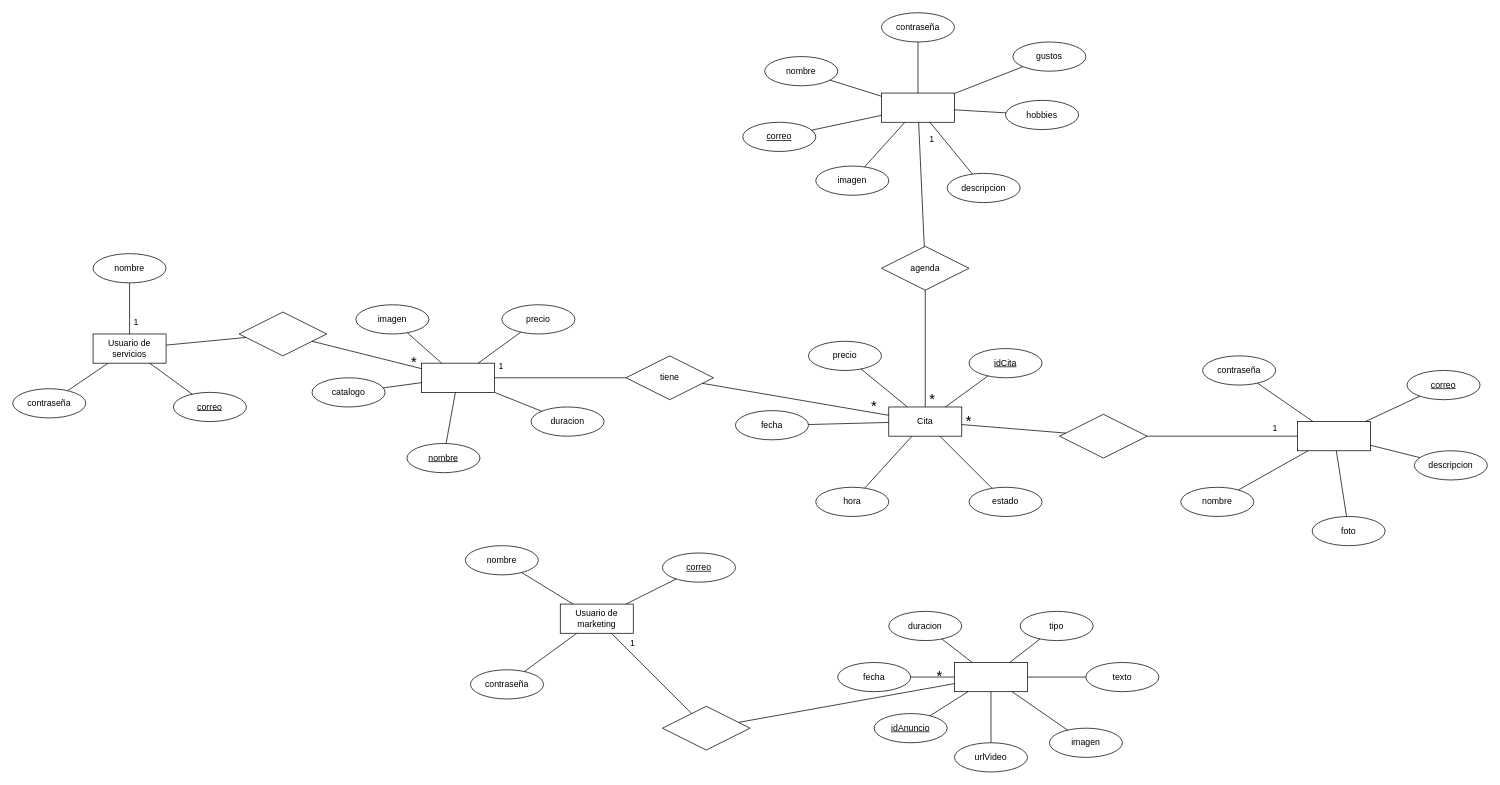
Some shapes in this 1500 by 785 pixel diagram are drawn without their labels. The centre of each missing label's shape, as x and y in pixels:
"Anuncio" goes at (990,677).
"atiende" goes at (1103,436).
"Cliente" goes at (917,107).
"Empleado" goes at (1334,436).
"gestiona" goes at (282,333).
"publica" goes at (706,728).
"Servicio" goes at (458,377).
